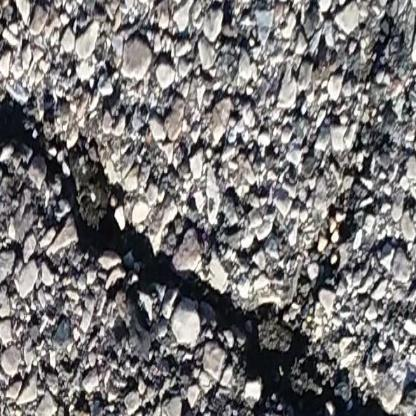Cracks: (0, 97, 416, 416), (179, 0, 239, 34), (6, 0, 43, 7)
